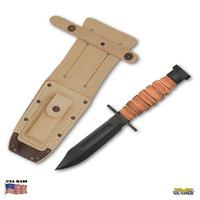knife: (52, 61, 186, 173)
